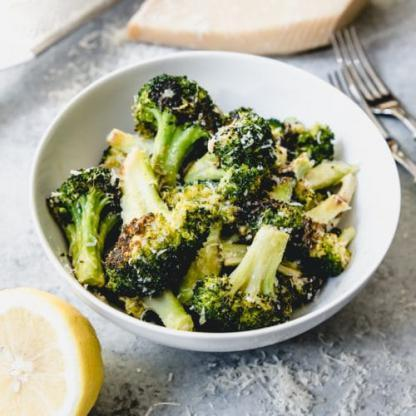broccoli: (43, 70, 359, 334)
